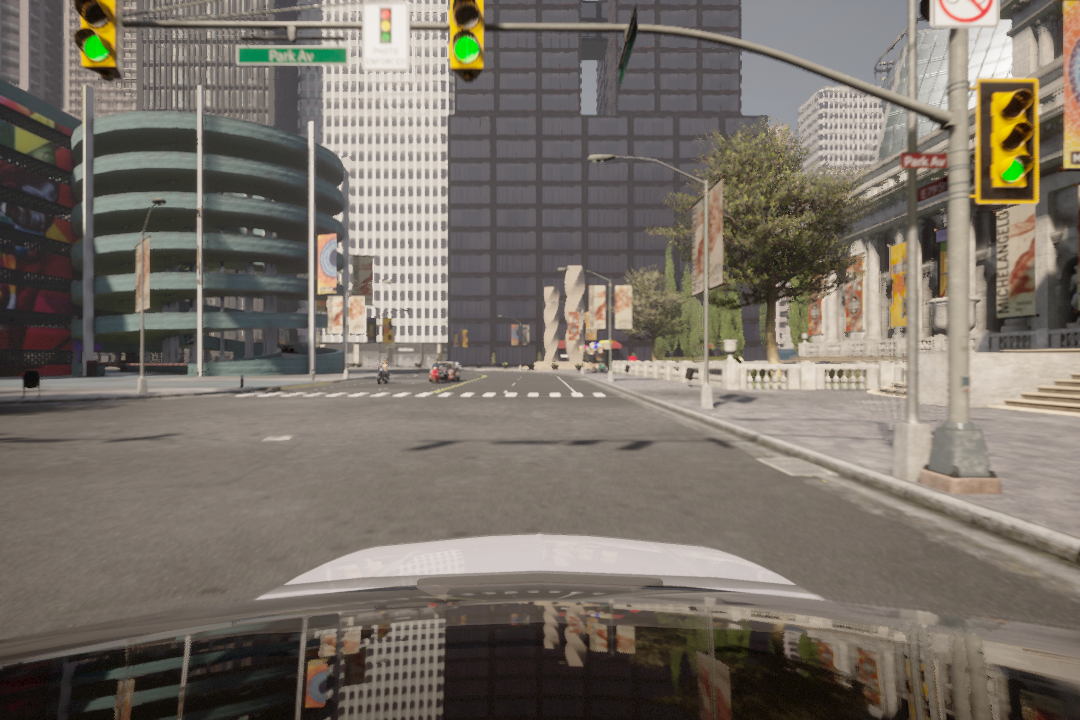TrafficLight: (984, 75, 1039, 202), (71, 2, 121, 71), (446, 1, 484, 74)
walkside: (240, 388, 612, 401)
